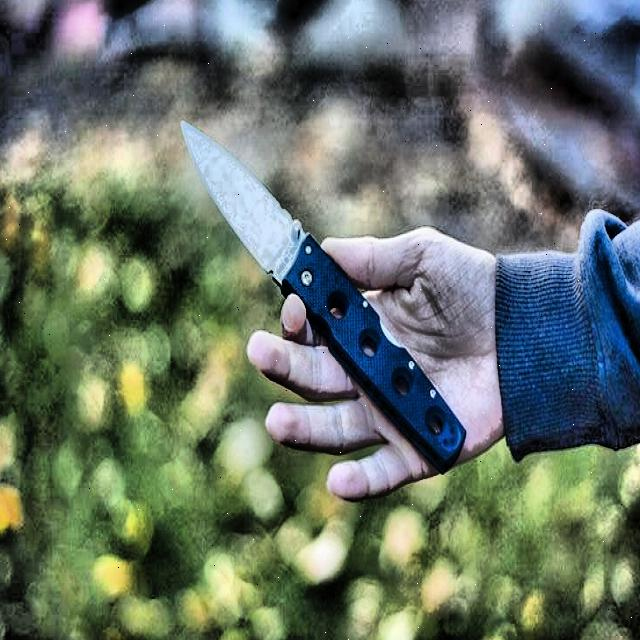knife: (182, 122, 467, 470)
